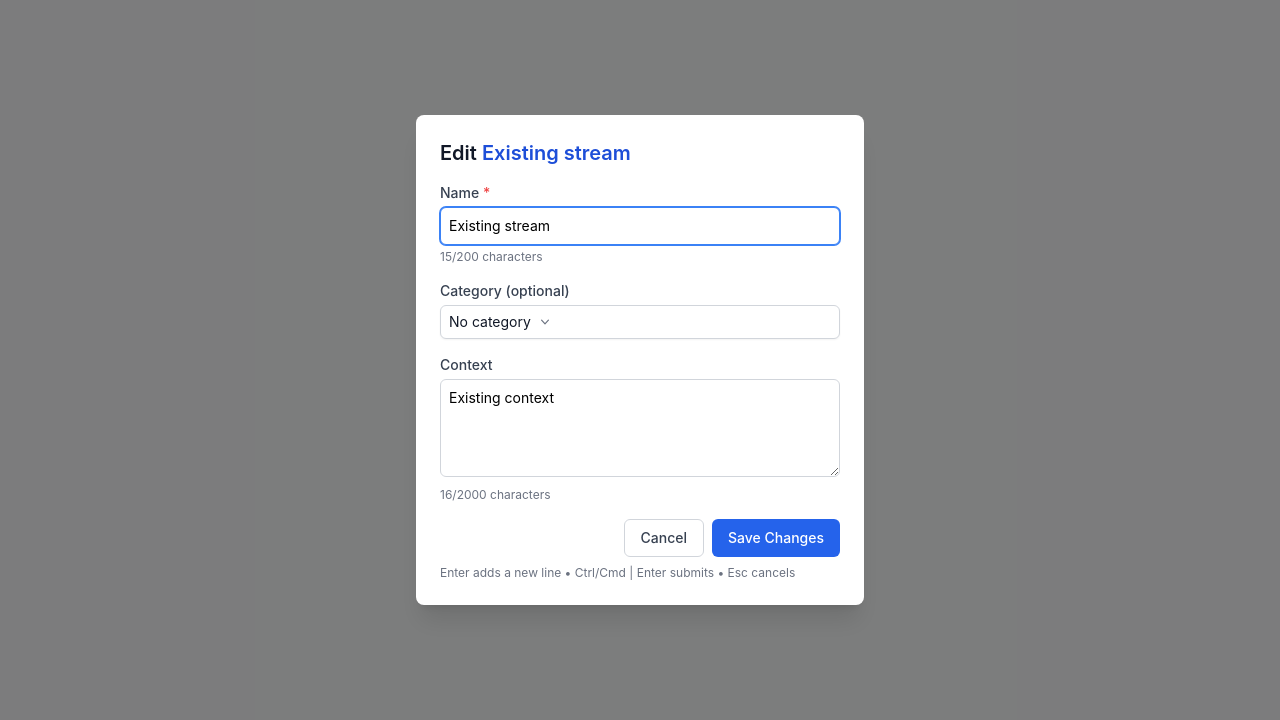
Test: dialog keyboard submission hints › uses the same Escape discard confirmation for editing streams
This screenshot has width=1280, height=720.
Replace the text in the text box labelled "Context" with "Unsaved context" at (640, 428), box [440,379,840,477]
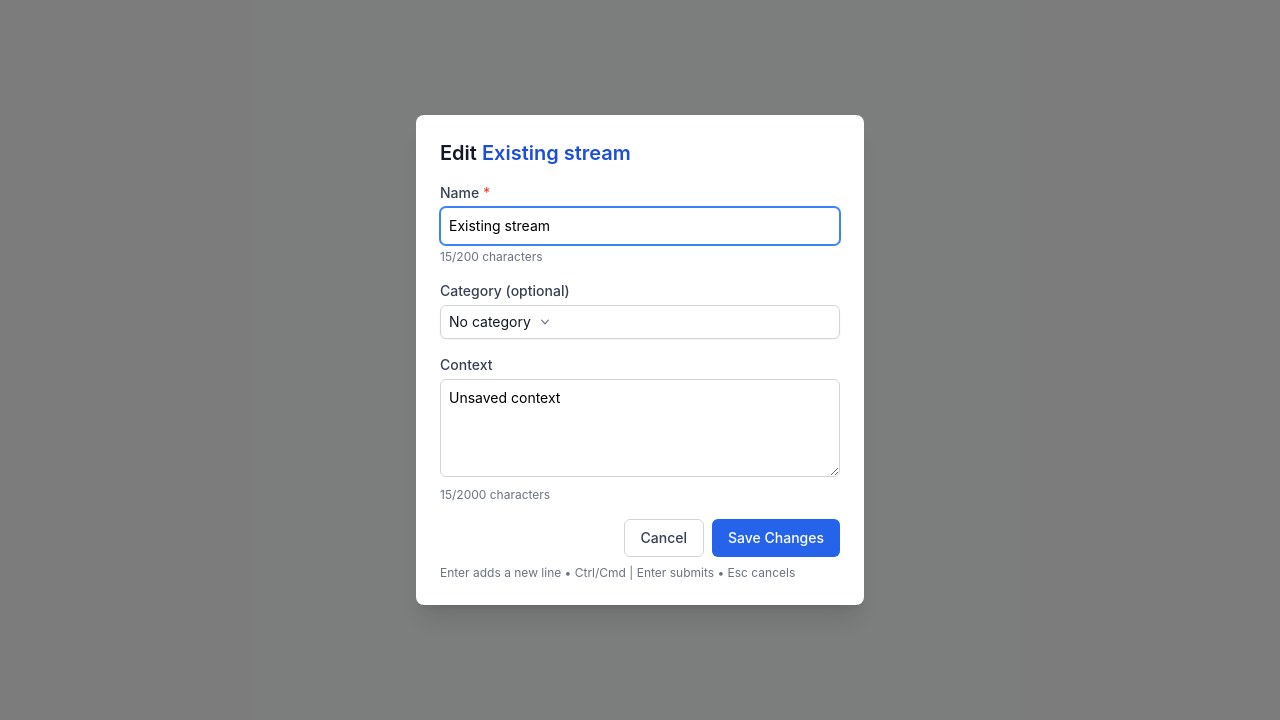
Press Escape in the text box labelled "Context", box [440,379,840,477]
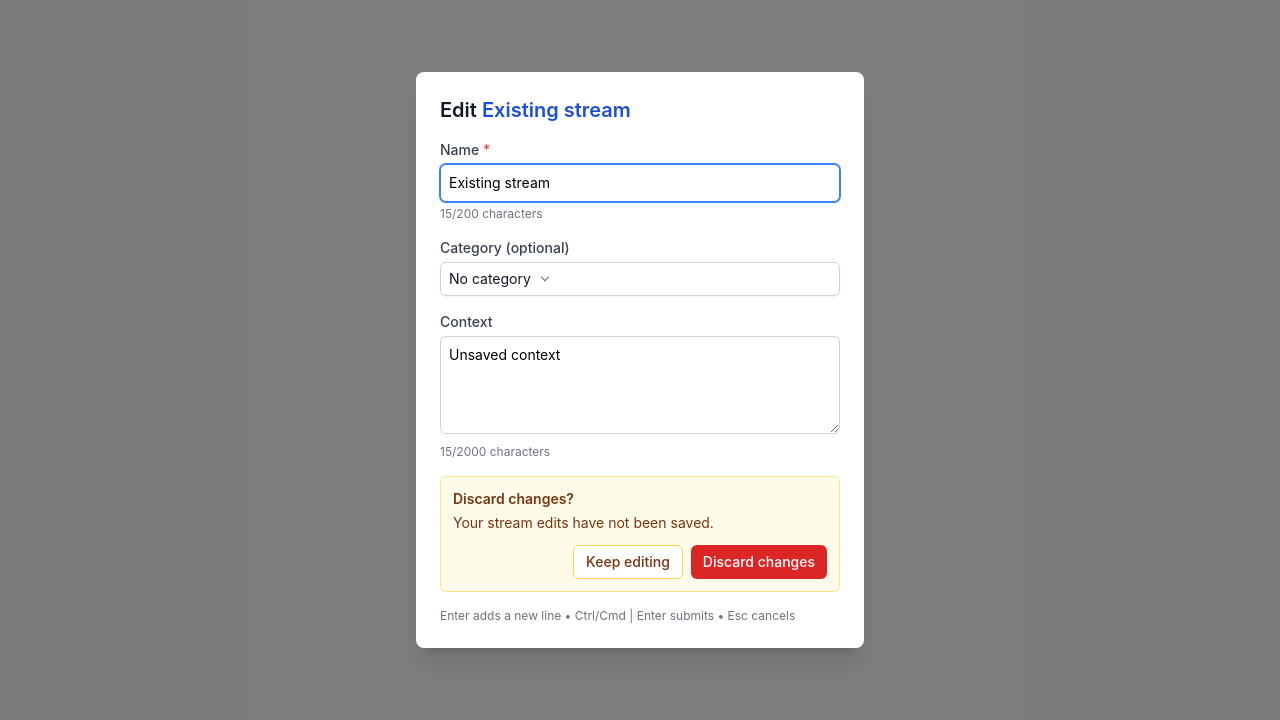
Expected: the text "Discard changes?" is shown, [453,490,574,507]
Expected: the button "Save Changes" is gone
Click the button "Keep editing" at (628, 562), box [573,545,683,579]
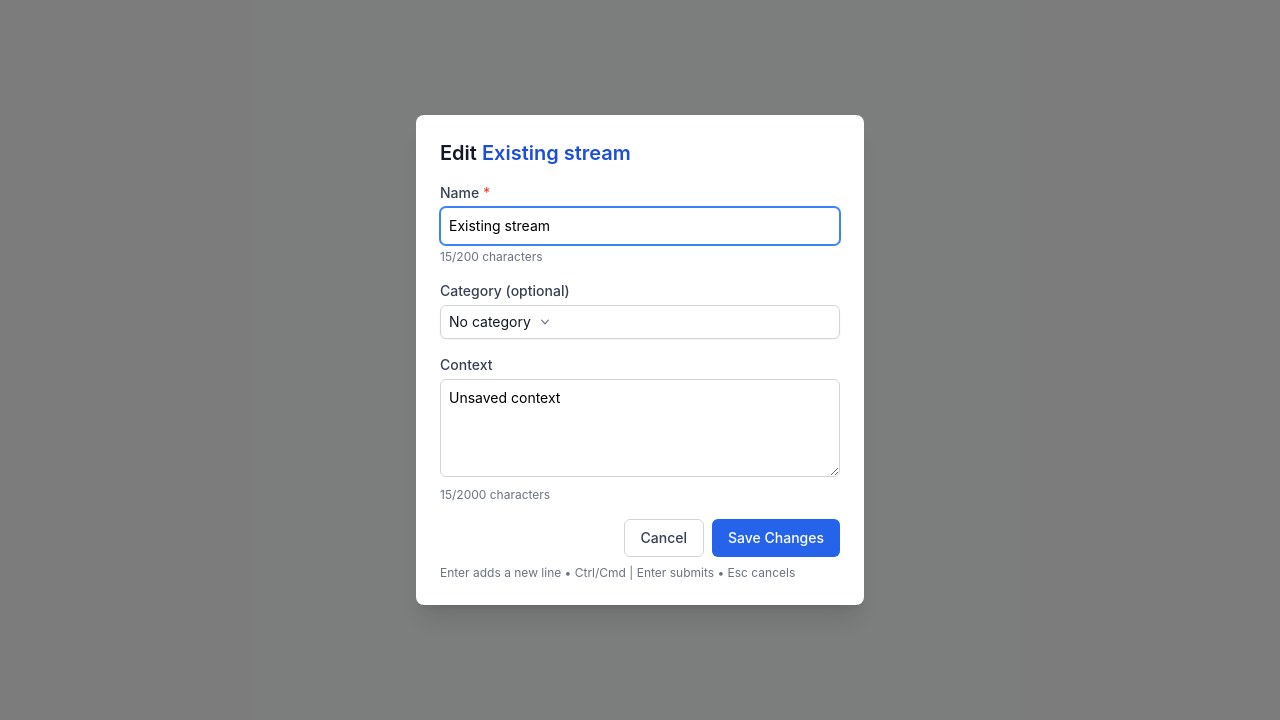
Expected: the text "Discard changes?" is gone
Expected: the button "Cancel" is shown, [624,519,704,557]
Expected: the button "Save Changes" is shown, [712,519,840,557]
